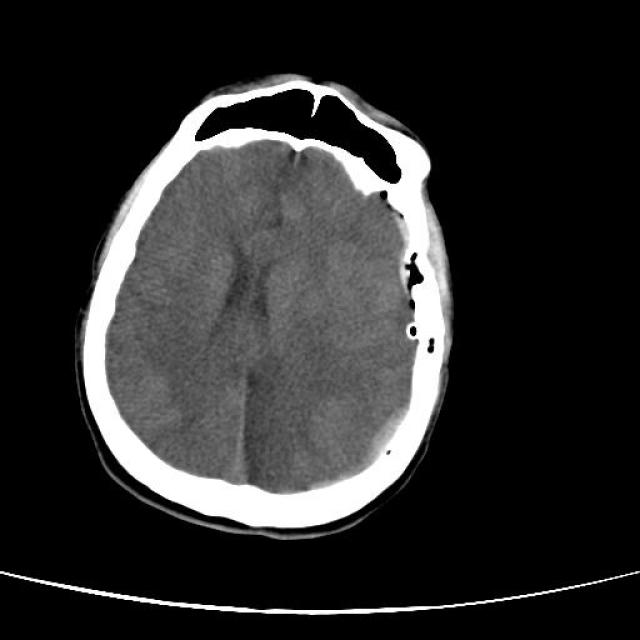Subdural: (326, 398, 436, 494)
